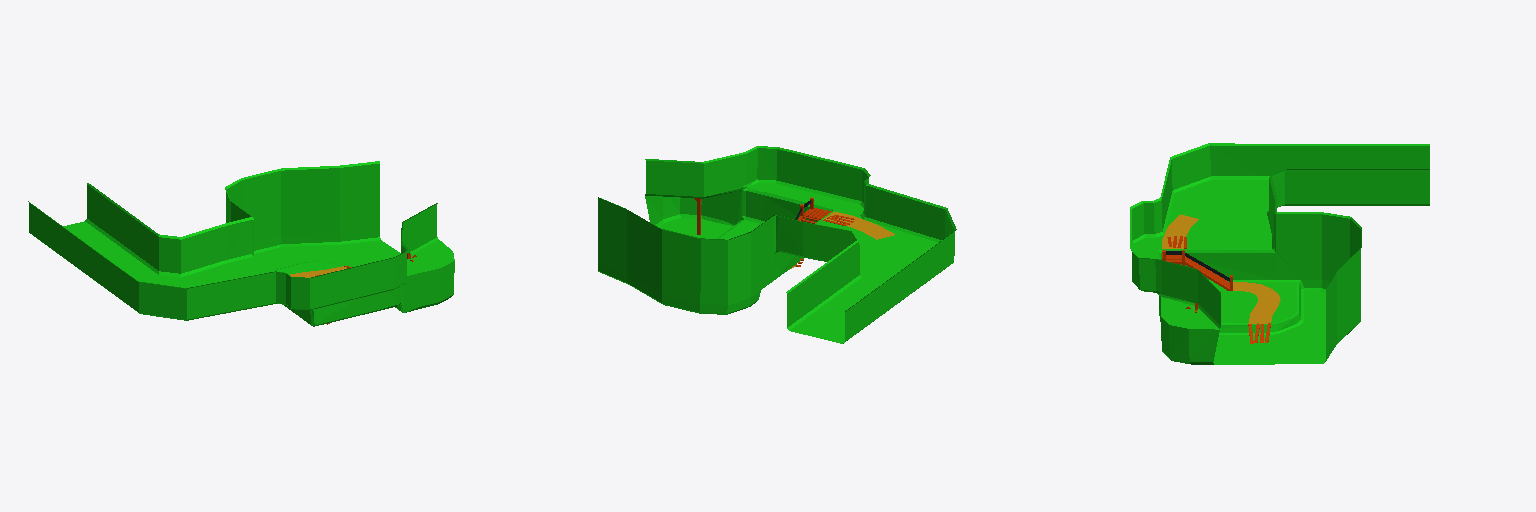
Rendered from terrain.obj.
3 renders of one model, left to right at view 1: azimuth 30°, elevation 25°; view 2: azimuth 150°, elevation 25°; view 3: azimuth 270°, elevation 25°, orthographic.
Visible parts, largest first — view 1: Terrain; view 2: Terrain, Wood, Path; view 3: Terrain, Path, Wood.
Part boxes in pixels (x1,y1,x2,y2): Terrain: (28,161,454,326); Terrain: (598,146,956,343); Wood: (694,197,854,266); Path: (789,211,894,269); Terrain: (1130,143,1429,364); Path: (1162,214,1280,323); Wood: (1162,236,1270,343).
Size of the model in its own units: 31.33 by 8.09 by 26.58.